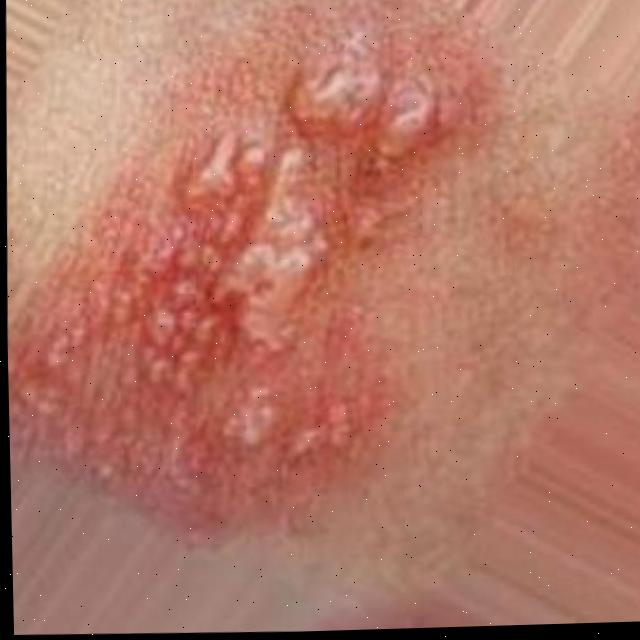Shingles: (96, 46, 428, 451)
